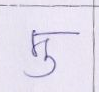u_matra: (23, 58, 58, 79)
